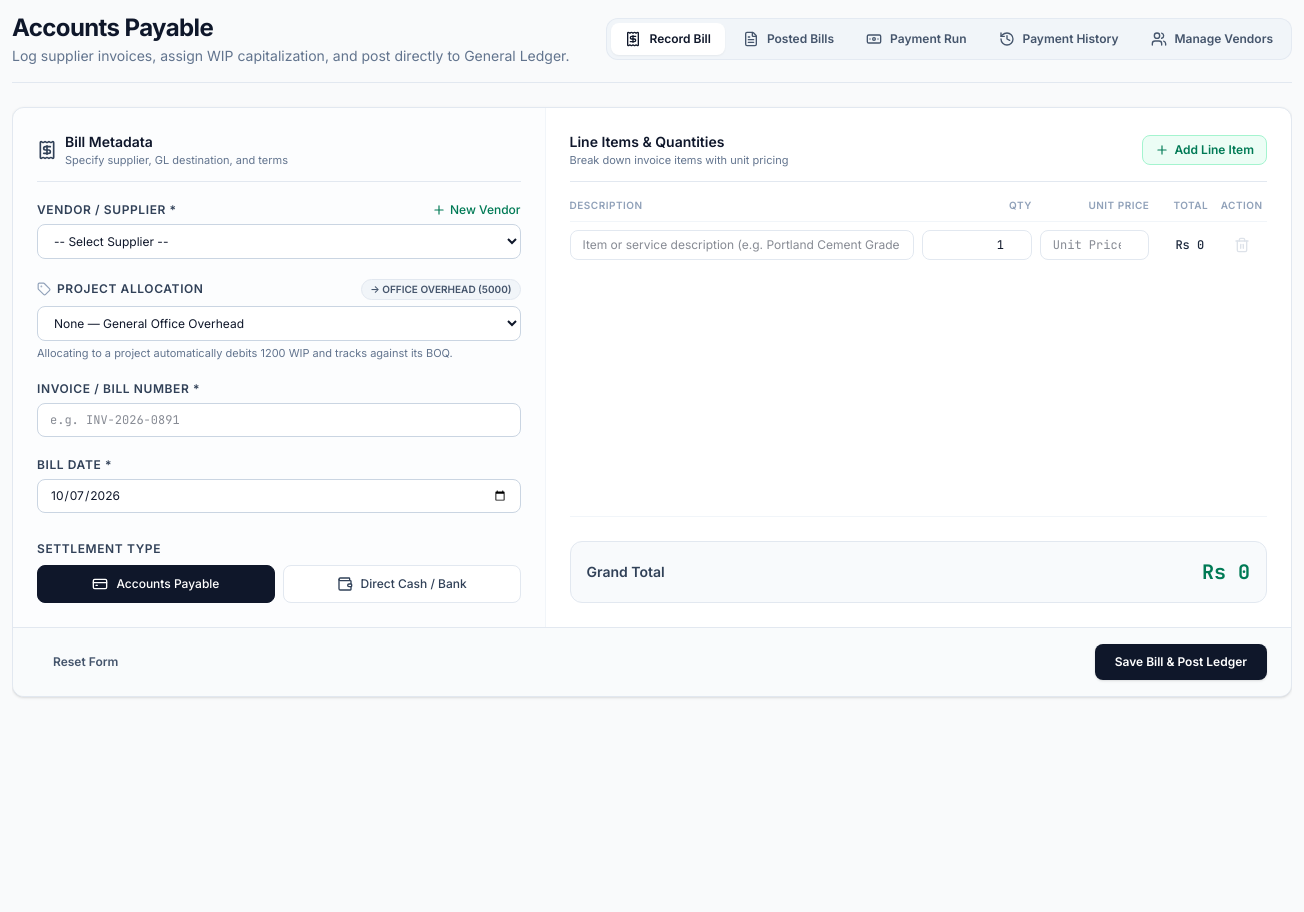
Test case: Accounts Payable Page (Screens 5 & 7) › Payment Run Panel (Screen 7) › renders invoice selection checkboxes and toggles specific bills
Click the button "Payment Run".
click(916, 39)  # box [852,23,980,55]
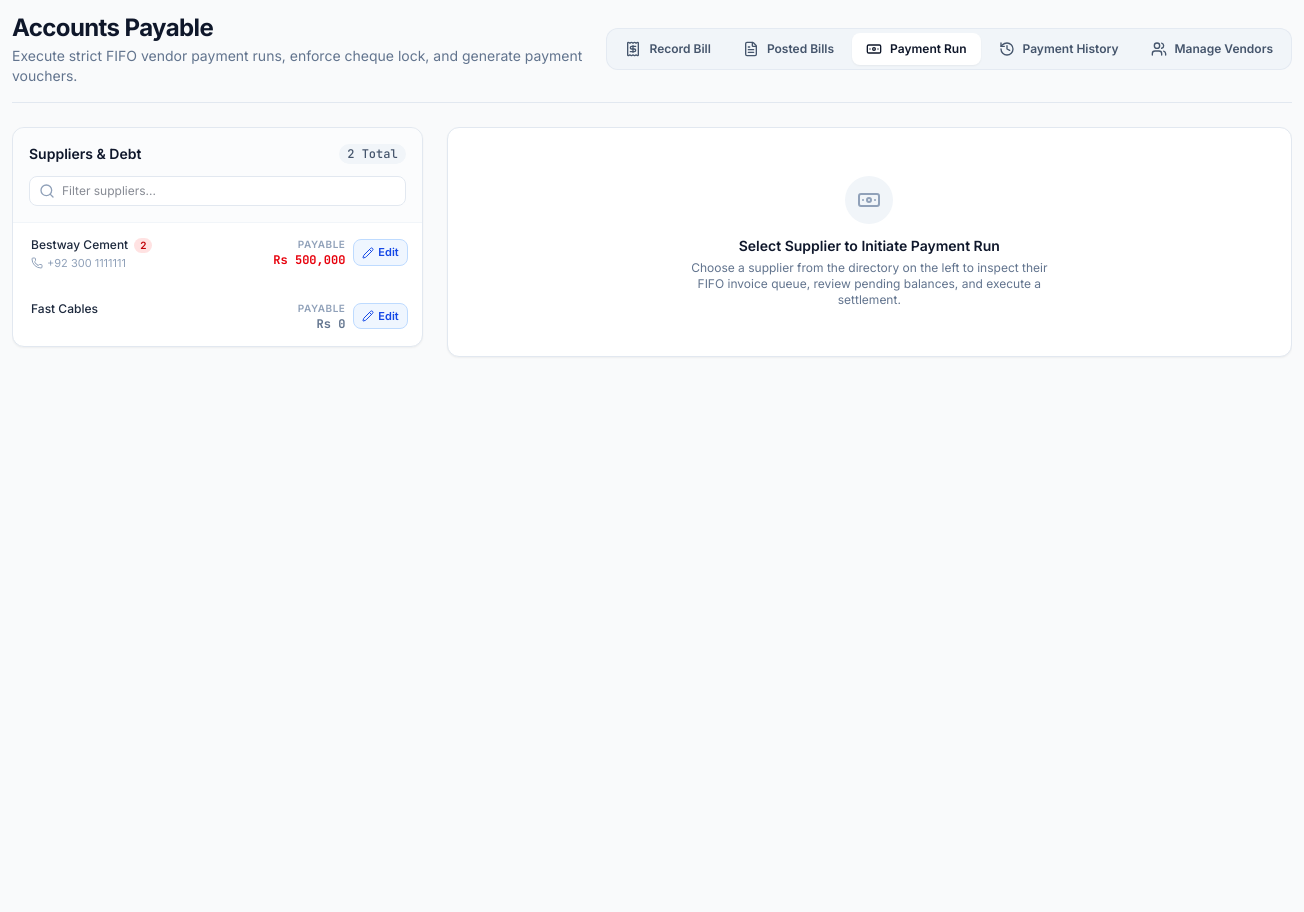
Click the text "Bestway Cement".
click(80, 245)  # box [31,237,128,253]
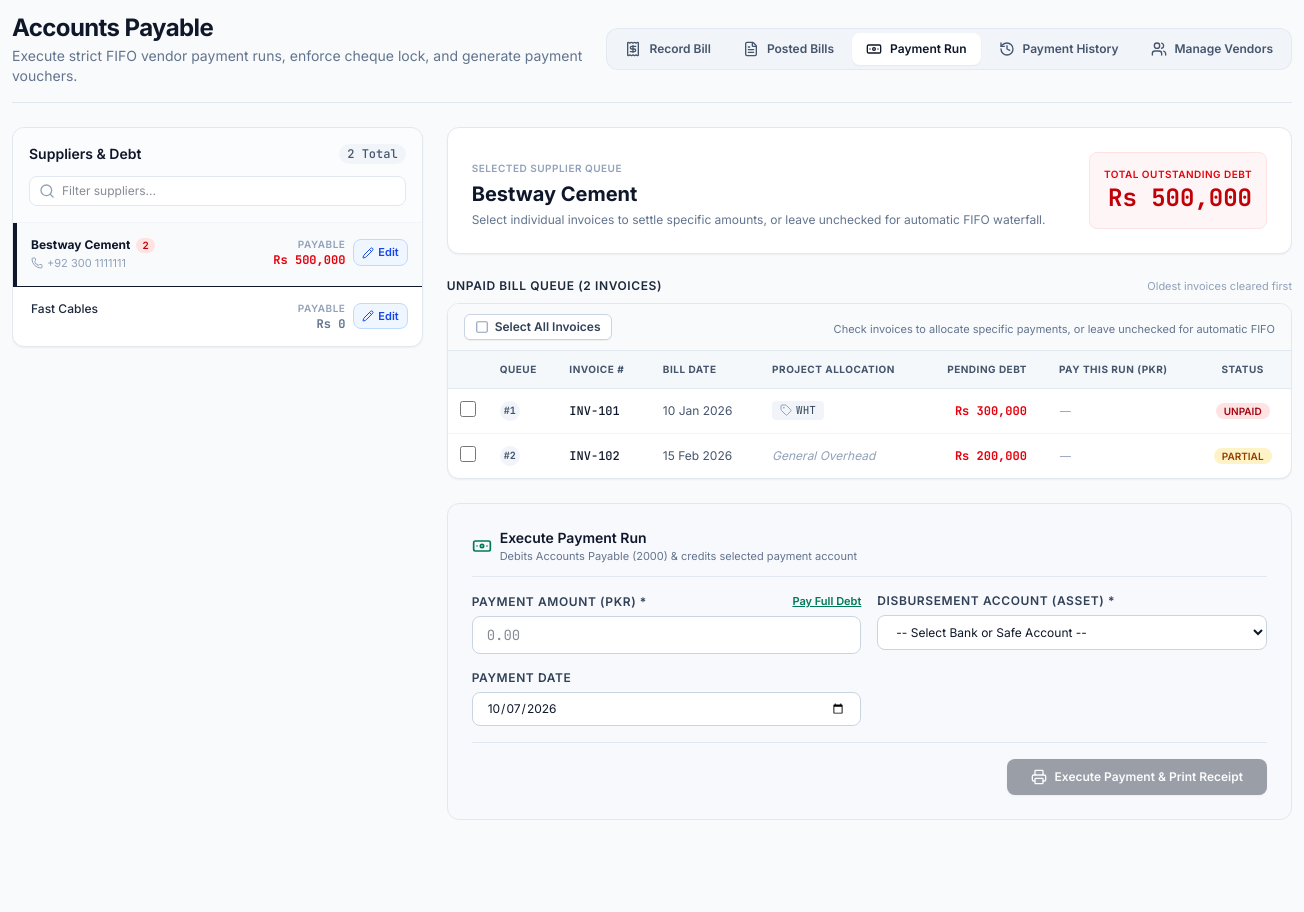
Expected: the checkbox with test id "select-bill-bill-1" is shown
Expected: the checkbox with test id "select-bill-bill-1" is not checked
Expected: the checkbox with test id "select-bill-bill-2" is not checked, [460,446,476,462]
Click the checkbox with test id "select-bill-bill-1".
click(468, 409)  # box [460,401,476,417]
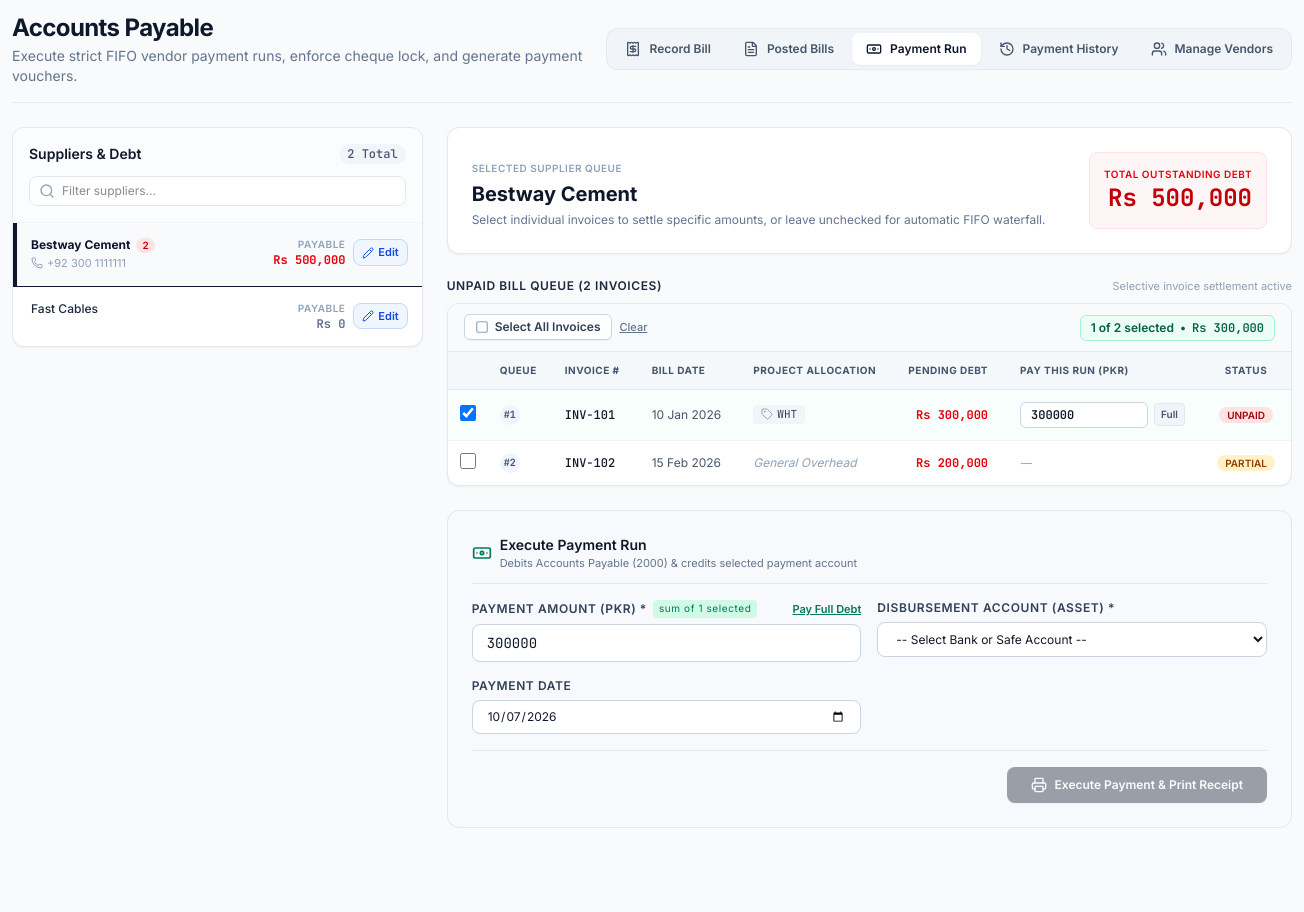
Expected: the checkbox with test id "select-bill-bill-1" is checked, [460,405,476,421]
Expected: the element with test id "selected-invoices-summary" shows "1 of 2 selected", [1080,314,1275,340]
Expected: the element with test id "selected-invoices-summary" shows "300,000", [1192,320,1264,336]
